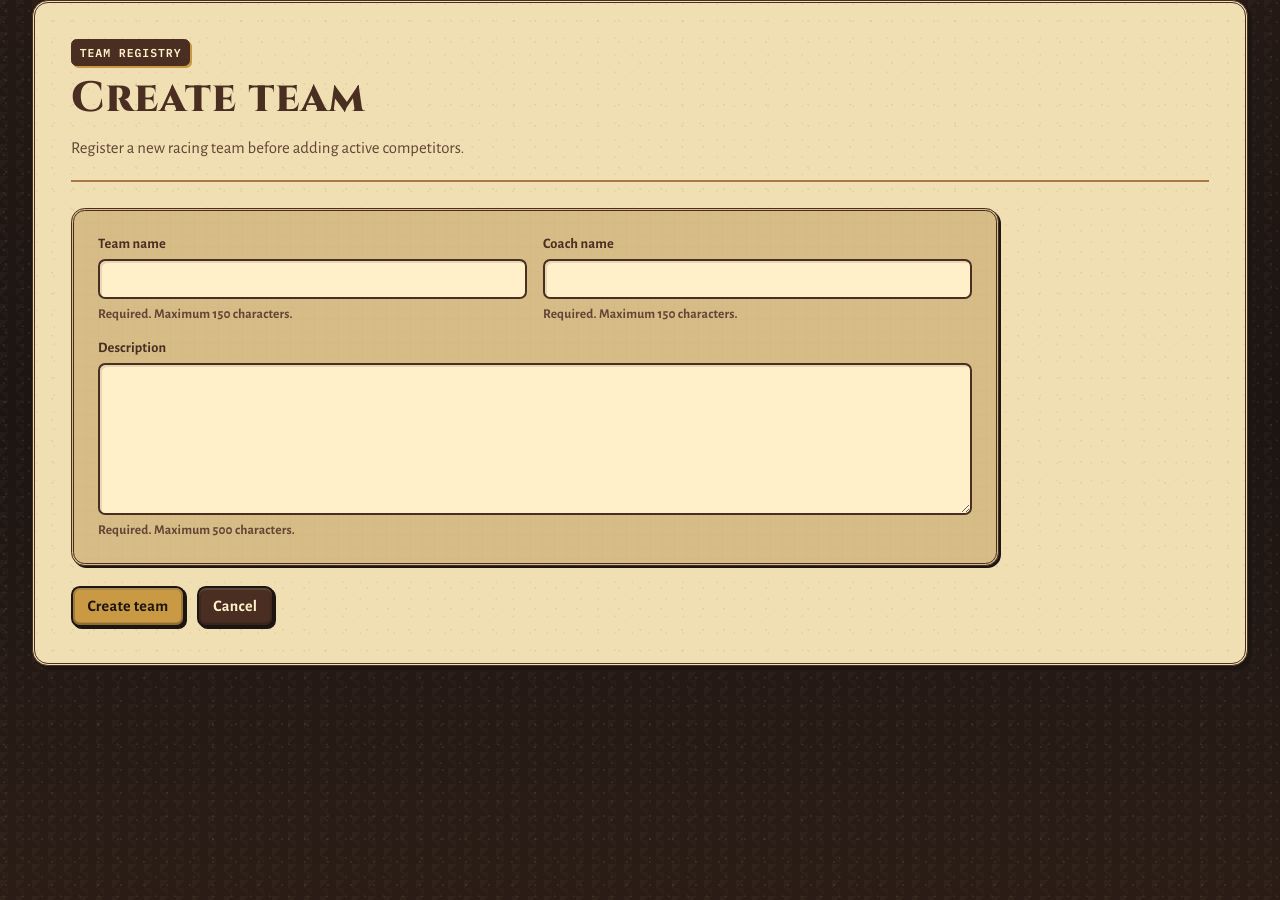
TeamFormPage › shows backend validation errors
This screenshot has width=1280, height=900.
Type "Desert Riders" into the field labelled "Team name".
click(312, 279); type("Desert Riders")  # box [98,258,527,299]
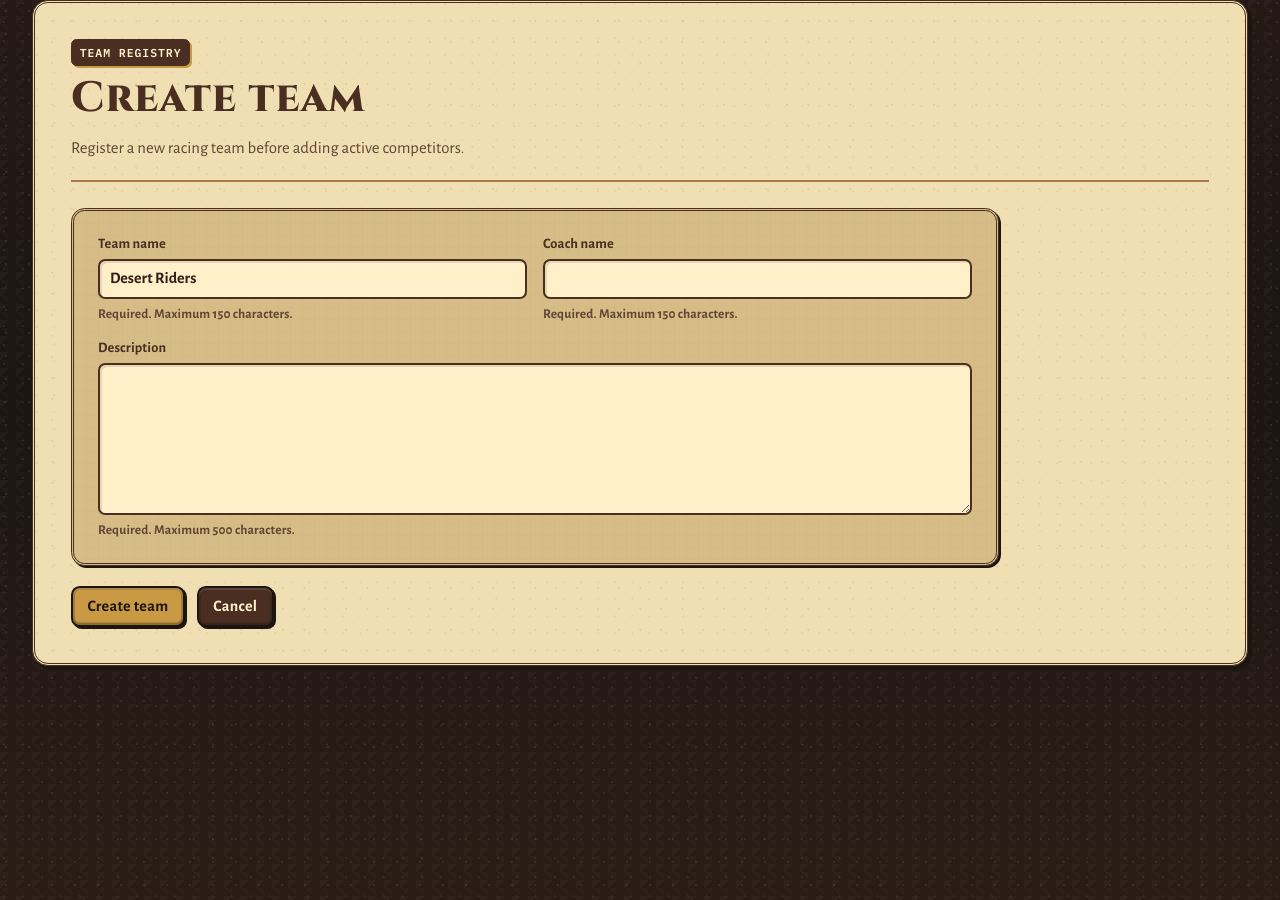
Type "Amina" into the field labelled "Coach name".
click(758, 279); type("Amina")  # box [543,258,972,299]
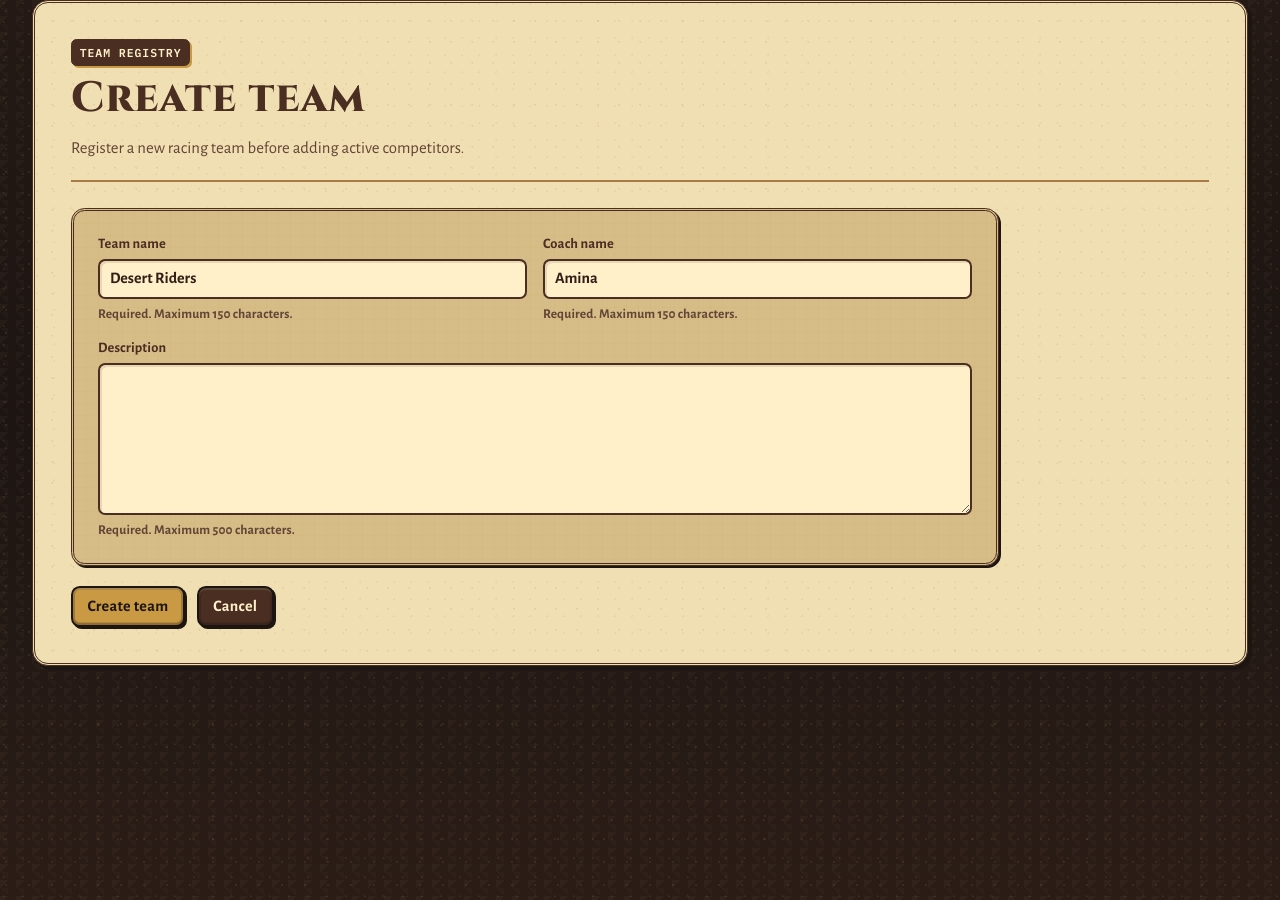
Type "A relay racing team" into the text box labelled "Description".
click(535, 439); type("A relay racing team")  # box [98,363,972,515]
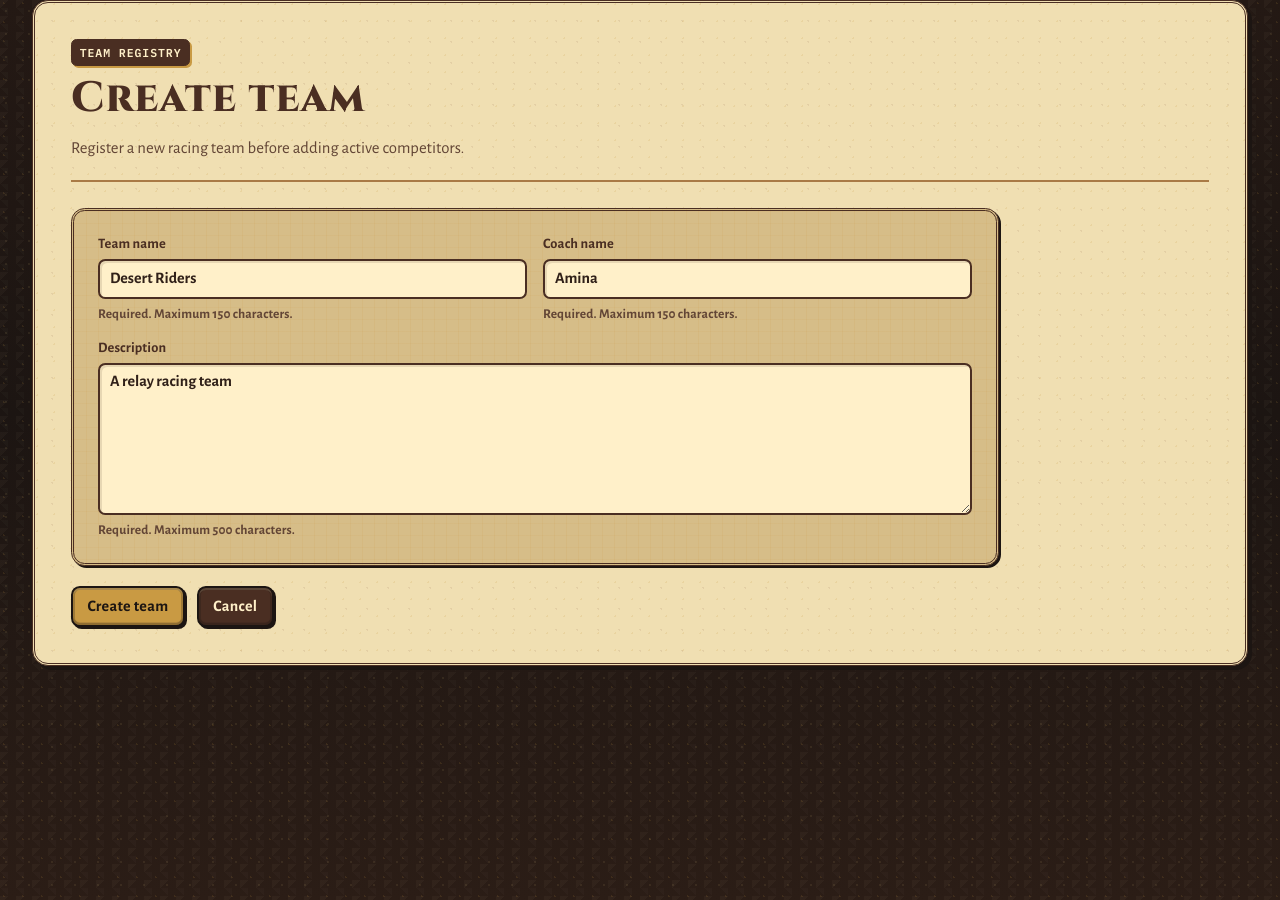
Click the button "Create team".
click(128, 606)  # box [71,586,185,627]
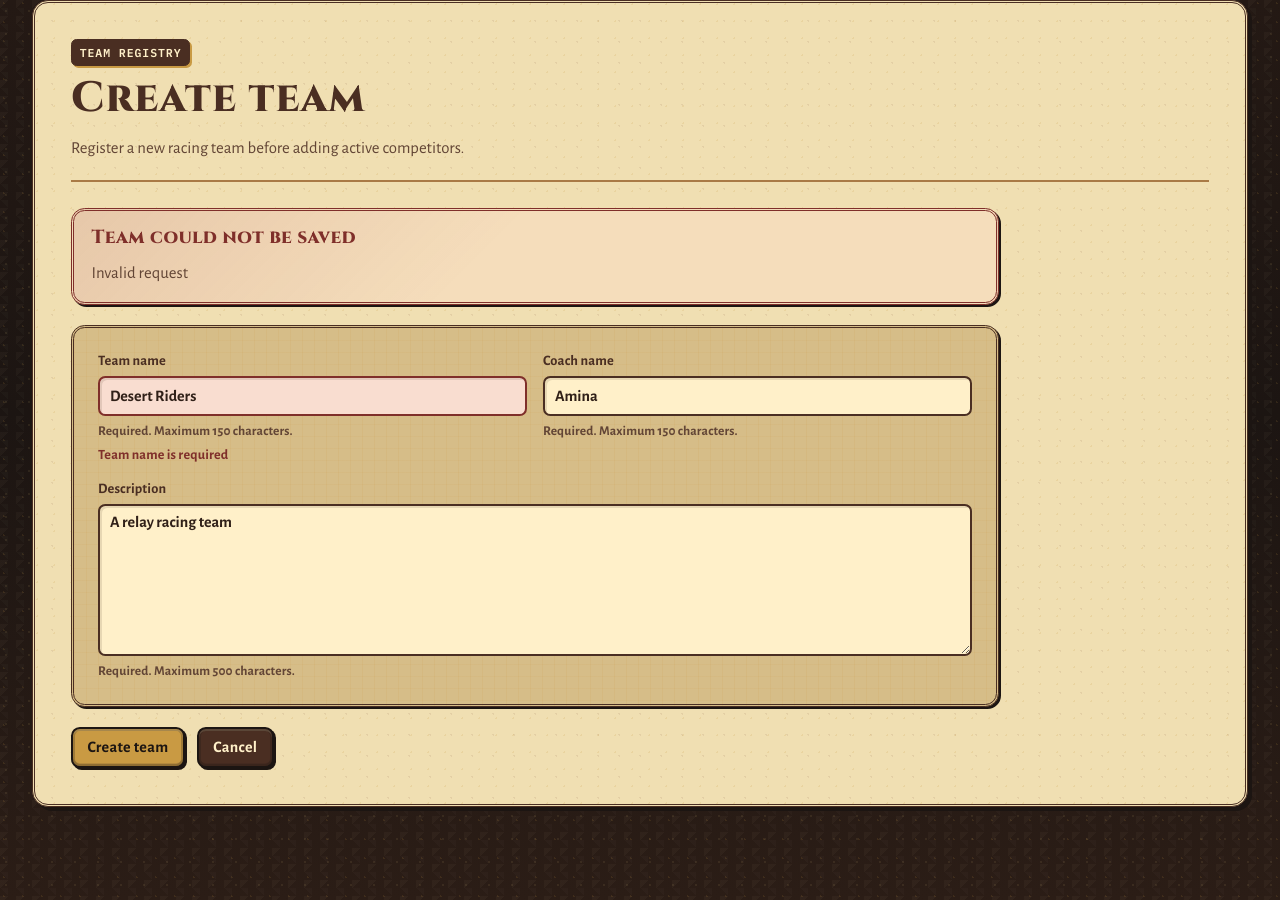
Check: the text "Team name is required" is shown, box [98,448,228,462]
